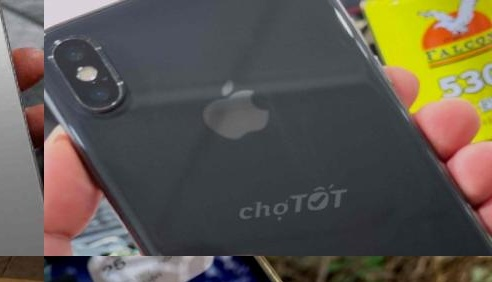scratch: (74, 26, 142, 98), (44, 40, 69, 73)
